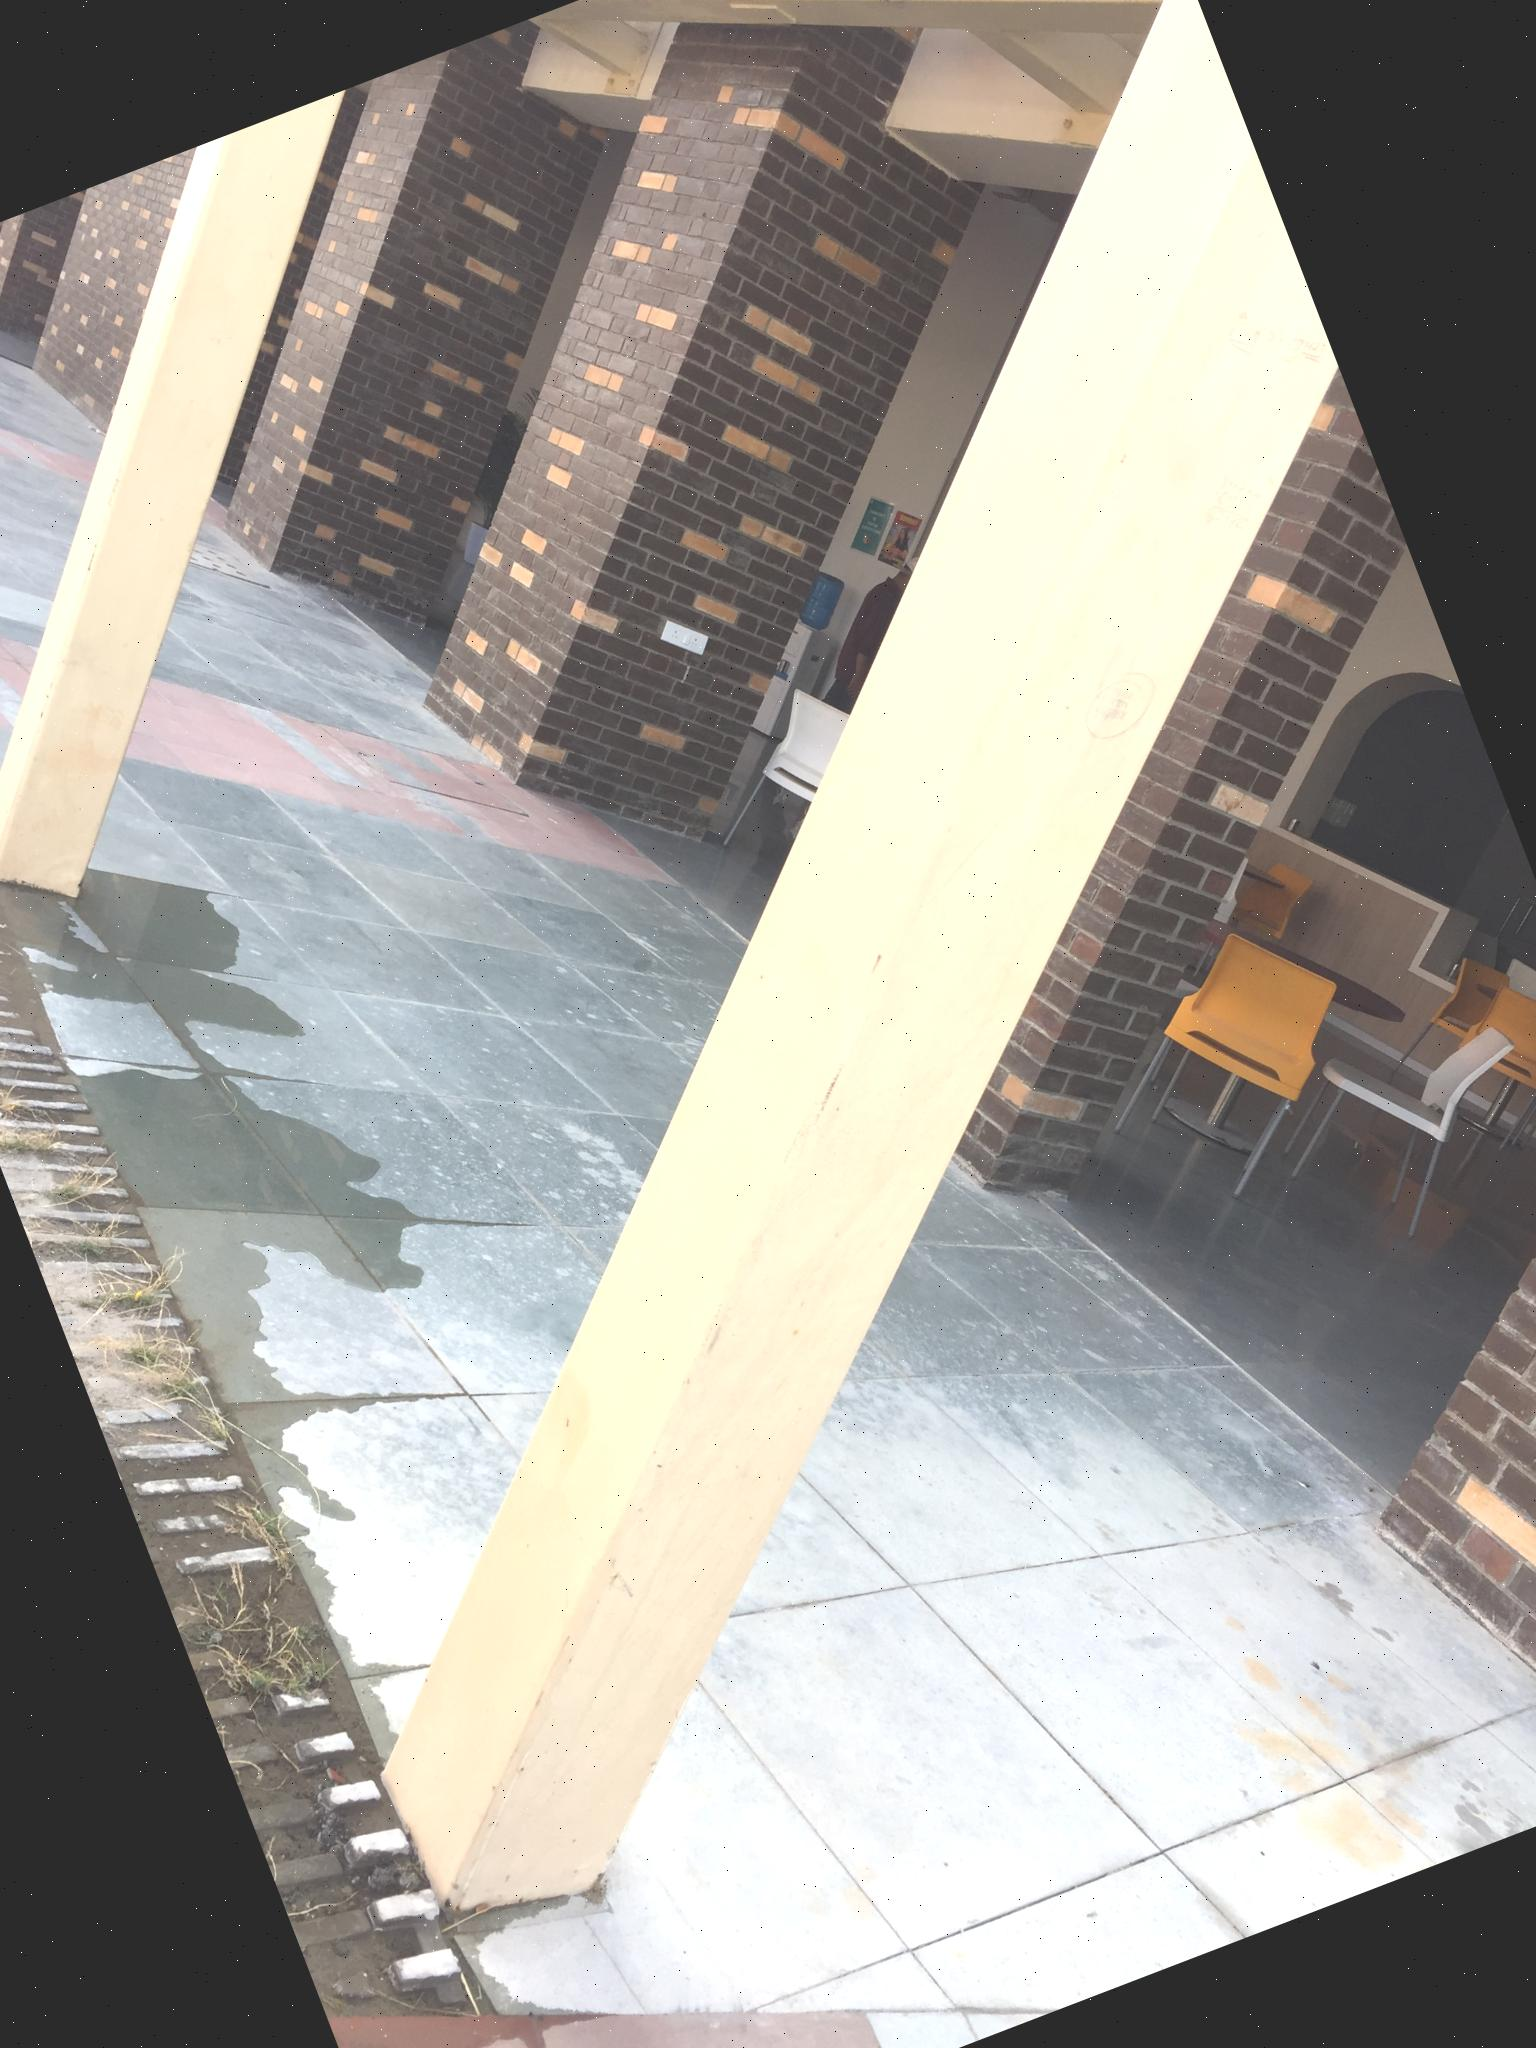chair: (1076, 855, 1396, 1232), (1215, 1006, 1536, 1274), (665, 647, 957, 922), (1392, 971, 1536, 1153), (1375, 951, 1536, 1090), (1175, 830, 1347, 945), (1483, 940, 1536, 1022)
